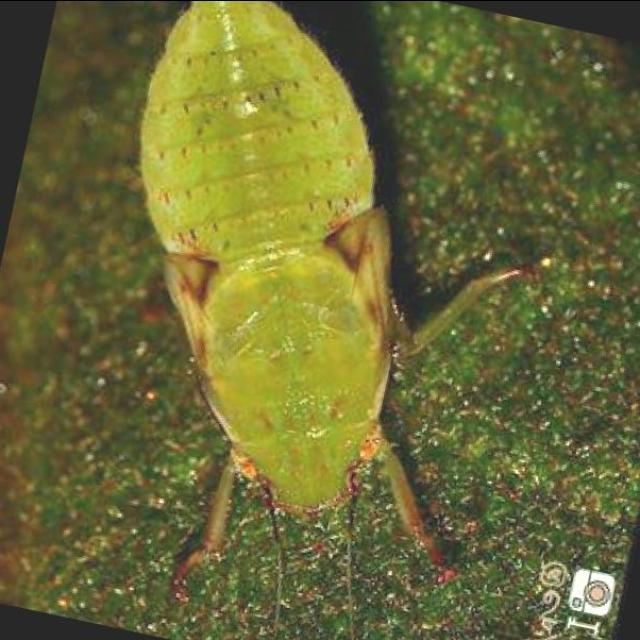green leaf hopper: (141, 0, 517, 572)
